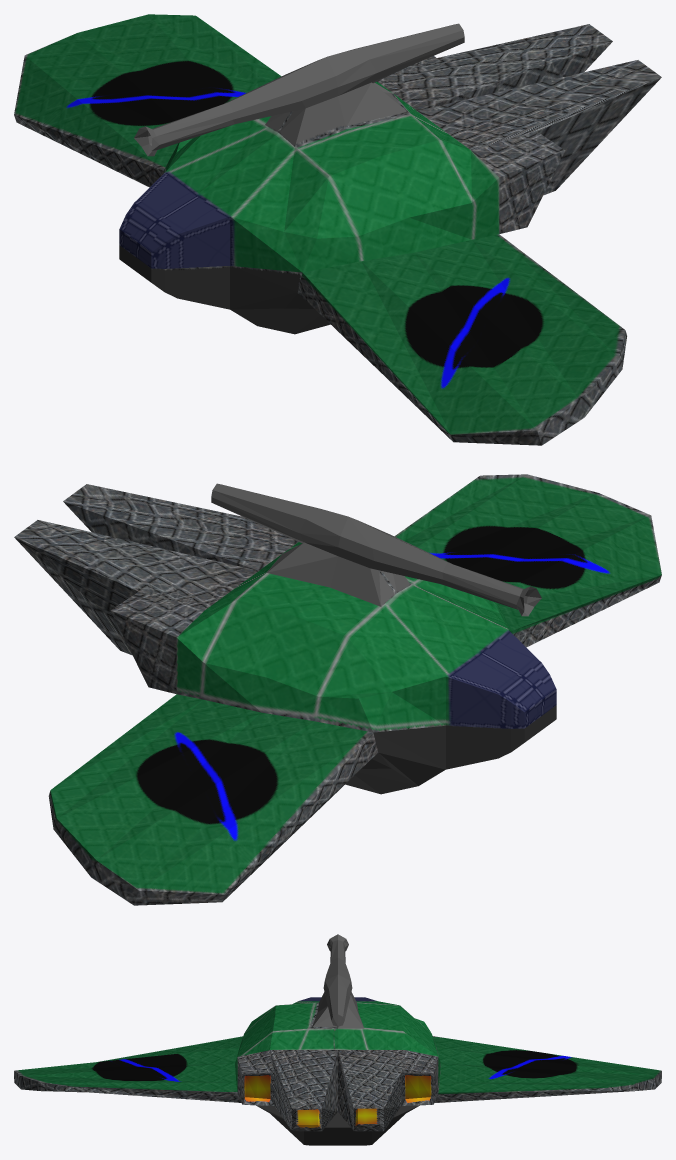
The model's file is deployed_unit.obj.
The picture shows the model from 3 angles, top to bottom: view 1: azimuth 30°, elevation 25°; view 2: azimuth 150°, elevation 25°; view 3: azimuth 270°, elevation 25°; orthographic projection. The views are drawn at different scales.
Visible parts, largest first — view 1: Cube; view 2: Cube; view 3: Cube.
Boxes of the visible parts, x1=… form: Cube: x1=14, y1=14, x2=661, y2=445; Cube: x1=14, y1=474, x2=661, y2=905; Cube: x1=14, y1=934, x2=661, y2=1145.
Bounding box in the file's own units: 5.25 × 2.62 × 9.51.
